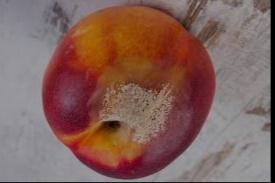rotten apple: (38, 4, 237, 179)
